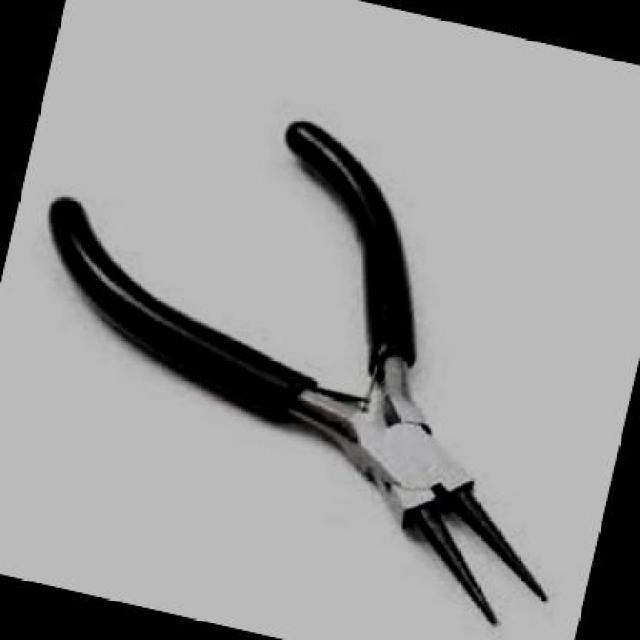pliers: (0, 52, 638, 638)
